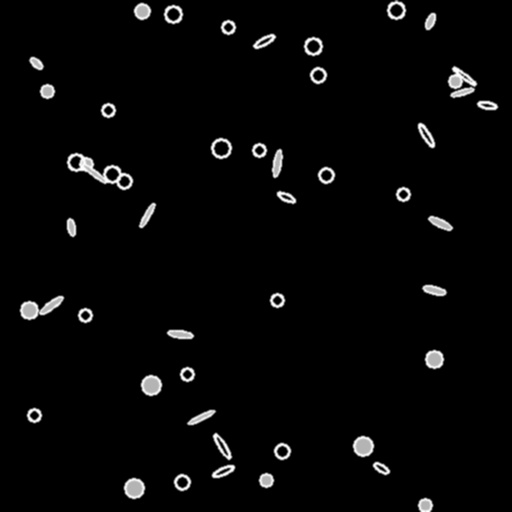pseudomonas: (81, 162, 107, 184), (212, 433, 232, 459), (451, 66, 477, 86), (416, 122, 436, 148), (39, 295, 63, 315), (138, 202, 156, 228), (187, 409, 215, 425), (427, 215, 453, 231), (212, 463, 234, 479), (253, 33, 275, 49), (450, 86, 474, 98), (422, 284, 446, 296), (272, 149, 282, 177), (276, 190, 296, 204), (28, 55, 44, 71), (372, 461, 390, 475), (168, 329, 192, 339), (424, 12, 436, 30), (66, 218, 76, 236), (477, 101, 497, 109)
synechocystis: (354, 437, 372, 455), (125, 479, 143, 497), (212, 139, 230, 157), (142, 376, 160, 394), (426, 351, 442, 367), (68, 154, 84, 170), (104, 166, 120, 182), (165, 6, 181, 22), (388, 2, 404, 18), (305, 38, 321, 54), (21, 302, 37, 318), (311, 68, 325, 82), (275, 444, 289, 458), (319, 168, 333, 182), (175, 475, 189, 489), (135, 4, 149, 18), (117, 174, 131, 188), (181, 368, 193, 380), (41, 85, 53, 97), (260, 474, 272, 486), (253, 144, 265, 156), (80, 158, 92, 170), (222, 21, 234, 33), (28, 409, 40, 421), (79, 309, 91, 321), (102, 104, 114, 116), (397, 188, 409, 200), (419, 499, 431, 511), (449, 75, 461, 87), (271, 294, 283, 306)
